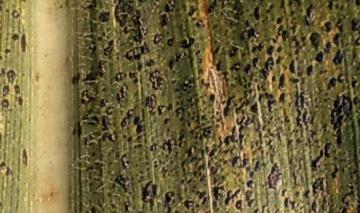tarspot: (330, 93, 353, 146), (266, 164, 284, 190), (122, 45, 149, 61), (309, 148, 324, 172), (180, 144, 197, 165), (224, 187, 241, 208), (262, 92, 278, 114), (114, 173, 131, 193), (163, 189, 176, 213), (311, 176, 325, 198), (259, 56, 275, 75), (139, 179, 151, 204), (113, 4, 125, 28), (230, 1, 244, 21), (239, 27, 259, 41), (132, 25, 146, 44), (309, 31, 322, 51), (159, 138, 173, 156), (102, 38, 115, 57), (294, 107, 303, 134), (148, 183, 158, 207), (178, 36, 195, 49), (332, 49, 344, 67), (340, 189, 355, 203), (118, 152, 129, 170), (97, 10, 111, 24), (152, 68, 166, 82), (149, 92, 157, 116), (223, 134, 239, 146), (300, 107, 308, 131), (329, 163, 340, 180), (181, 79, 195, 92), (211, 185, 224, 199), (226, 45, 239, 59), (100, 114, 110, 132), (158, 12, 170, 27), (280, 106, 290, 123), (251, 5, 261, 22), (305, 2, 315, 19), (20, 32, 28, 53), (131, 12, 143, 26), (186, 48, 194, 69), (182, 198, 194, 212), (323, 139, 331, 160), (292, 84, 299, 107), (6, 68, 16, 84), (350, 17, 360, 33), (151, 33, 164, 45), (201, 125, 213, 138), (321, 20, 333, 33), (113, 71, 127, 82), (210, 199, 221, 213), (249, 38, 258, 55), (75, 120, 83, 139), (83, 71, 98, 81), (238, 114, 245, 135), (80, 108, 92, 120), (298, 91, 306, 109), (331, 31, 340, 47), (334, 17, 343, 33), (173, 50, 184, 63), (290, 35, 301, 48), (21, 147, 28, 167), (326, 76, 336, 90), (166, 56, 175, 71), (287, 59, 296, 74), (108, 130, 118, 143), (122, 200, 132, 213), (135, 122, 145, 135), (156, 104, 166, 117), (230, 155, 240, 168), (228, 62, 241, 72), (291, 171, 299, 187), (141, 95, 150, 109), (278, 72, 285, 90), (10, 8, 21, 19), (96, 59, 107, 70), (206, 147, 217, 158), (4, 165, 14, 177), (148, 141, 158, 153), (138, 108, 146, 123), (187, 5, 197, 17), (250, 101, 258, 116), (310, 198, 318, 213), (314, 51, 324, 63), (238, 134, 245, 151), (303, 171, 310, 188), (1, 84, 10, 97), (143, 58, 156, 67), (159, 165, 168, 178), (214, 59, 223, 72), (234, 198, 243, 211), (280, 29, 289, 42), (296, 155, 303, 171), (308, 111, 315, 127), (324, 40, 332, 54), (85, 94, 95, 105), (119, 12, 129, 23), (125, 107, 136, 117), (174, 106, 184, 117), (226, 94, 236, 105), (274, 15, 285, 25), (288, 23, 298, 34), (119, 117, 128, 129), (127, 70, 139, 79), (229, 123, 238, 135), (222, 105, 231, 117), (251, 56, 260, 68), (265, 138, 274, 150), (302, 15, 311, 27), (216, 134, 223, 149), (197, 147, 205, 160), (352, 94, 360, 107), (266, 43, 274, 56), (87, 45, 98, 54), (150, 80, 159, 91), (166, 36, 175, 47), (196, 190, 207, 199), (196, 162, 207, 171), (246, 198, 255, 209), (244, 188, 253, 199), (13, 82, 21, 94), (16, 94, 24, 106), (145, 69, 153, 81), (221, 71, 229, 83), (278, 92, 286, 104), (275, 131, 283, 143), (320, 197, 326, 213), (257, 40, 265, 52), (265, 3, 273, 15), (114, 91, 121, 104), (287, 76, 300, 83), (83, 80, 98, 86), (98, 98, 107, 108), (126, 3, 136, 12), (135, 61, 144, 71), (165, 102, 174, 112), (162, 116, 172, 125), (212, 44, 221, 54), (243, 63, 252, 73), (33, 72, 41, 83), (208, 92, 216, 103), (193, 114, 201, 125), (253, 160, 261, 171), (288, 199, 296, 210), (84, 33, 96, 40), (257, 131, 263, 145), (268, 152, 275, 164), (354, 34, 360, 48), (80, 88, 89, 97), (200, 196, 209, 205), (270, 34, 279, 43), (275, 24, 284, 33), (122, 25, 130, 35), (132, 115, 140, 125), (222, 28, 230, 38), (188, 155, 198, 163), (246, 178, 254, 188), (345, 182, 355, 190), (306, 65, 314, 75), (337, 73, 345, 83), (283, 196, 289, 209), (163, 2, 170, 13), (211, 165, 218, 176), (275, 55, 282, 66), (309, 129, 316, 140), (97, 136, 102, 151), (10, 33, 19, 41), (1, 98, 9, 107), (105, 106, 113, 115), (185, 95, 194, 103), (211, 176, 219, 185), (244, 115, 250, 127), (250, 113, 256, 125), (237, 74, 243, 86), (274, 125, 283, 133), (286, 138, 294, 147), (298, 32, 306, 41), (243, 18, 250, 28), (176, 191, 183, 201), (303, 188, 310, 198), (351, 79, 358, 89), (318, 69, 328, 76), (326, 1, 333, 11), (85, 120, 96, 126), (101, 132, 107, 143), (241, 157, 247, 168), (243, 88, 249, 99), (273, 202, 279, 213), (298, 173, 304, 184), (194, 95, 199, 108), (265, 200, 270, 213), (97, 70, 105, 78), (132, 77, 140, 85), (194, 48, 202, 56), (240, 74, 248, 82), (275, 45, 283, 53), (278, 1, 286, 9), (289, 16, 297, 24), (3, 47, 12, 54), (89, 114, 98, 121), (196, 56, 203, 65), (209, 1, 218, 8), (176, 134, 185, 141), (176, 141, 185, 148), (198, 174, 207, 181), (239, 100, 246, 109), (295, 137, 304, 144), (289, 8, 296, 17), (70, 74, 76, 84), (82, 136, 88, 146), (92, 177, 102, 183), (199, 77, 205, 87), (257, 92, 263, 102), (280, 188, 286, 198), (349, 167, 359, 173), (91, 1, 99, 8), (89, 205, 96, 213), (109, 201, 116, 209), (118, 85, 125, 93), (126, 136, 134, 143), (196, 67, 204, 74), (165, 126, 172, 134), (194, 21, 201, 29), (199, 113, 206, 121), (177, 128, 185, 135), (185, 177, 192, 185), (237, 177, 244, 185), (340, 205, 347, 213), (297, 58, 305, 65), (86, 171, 92, 180), (170, 196, 176, 205), (212, 32, 221, 38), (172, 138, 178, 147), (270, 74, 276, 83), (255, 123, 261, 132), (261, 115, 267, 124), (344, 1, 350, 10), (84, 4, 94, 9), (76, 71, 81, 81), (203, 142, 208, 152), (221, 46, 226, 56), (260, 203, 265, 213), (96, 34, 103, 41), (173, 86, 180, 93), (211, 23, 218, 30), (205, 7, 212, 14), (214, 123, 221, 130), (188, 128, 195, 135), (205, 128, 212, 135), (248, 170, 255, 177), (257, 73, 264, 80), (287, 1, 294, 8), (312, 138, 319, 145), (353, 1, 360, 8), (99, 185, 106, 192), (80, 97, 86, 105), (90, 150, 96, 158), (114, 151, 120, 159), (135, 134, 143, 140), (212, 38, 220, 44), (220, 1, 226, 9), (228, 19, 234, 27), (202, 105, 208, 113), (193, 131, 199, 139), (191, 169, 197, 177), (220, 174, 226, 182), (218, 166, 226, 172), (233, 106, 239, 114), (259, 182, 267, 188), (294, 189, 300, 197), (340, 166, 346, 174), (339, 157, 347, 163), (240, 51, 246, 59), (333, 1, 339, 9), (316, 86, 322, 94), (308, 56, 314, 64), (98, 166, 103, 175), (174, 149, 179, 158), (234, 116, 239, 125), (255, 83, 260, 92), (260, 150, 265, 159), (88, 26, 94, 33), (97, 201, 104, 207), (106, 191, 112, 198), (120, 133, 127, 139), (136, 143, 143, 149), (124, 159, 131, 165), (143, 160, 150, 166), (170, 78, 176, 85), (174, 170, 180, 177), (186, 121, 192, 128), (209, 113, 215, 120), (214, 109, 220, 116), (219, 99, 226, 105), (205, 81, 211, 88), (223, 38, 230, 44), (229, 82, 236, 88), (239, 108, 246, 114), (228, 147, 234, 154), (268, 115, 275, 121), (262, 134, 269, 140), (253, 207, 260, 213), (331, 155, 338, 161), (293, 48, 299, 55), (296, 1, 302, 8), (296, 71, 303, 77), (320, 123, 327, 129), (151, 116, 157, 123), (330, 147, 337, 153), (1, 67, 6, 75), (1, 160, 6, 168), (49, 190, 54, 198), (72, 126, 76, 136), (89, 40, 97, 45), (105, 161, 113, 166), (146, 171, 151, 179), (178, 22, 183, 30), (197, 18, 205, 23), (214, 117, 222, 122), (183, 185, 188, 193), (206, 160, 211, 168), (254, 140, 259, 148), (261, 124, 266, 132), (288, 157, 293, 165), (356, 145, 360, 155), (270, 15, 275, 23), (131, 203, 136, 211), (4, 7, 10, 13), (88, 64, 94, 70), (100, 86, 106, 92), (88, 135, 94, 141), (88, 141, 94, 147), (110, 181, 116, 187), (143, 153, 149, 159), (164, 30, 170, 36), (168, 158, 174, 164), (219, 11, 225, 17), (230, 28, 236, 34), (198, 93, 204, 99), (178, 116, 184, 122), (185, 111, 191, 117), (194, 124, 200, 130), (180, 166, 186, 172), (179, 178, 185, 184), (201, 181, 207, 187), (241, 152, 247, 158), (246, 82, 252, 88), (265, 127, 271, 133), (251, 149, 257, 155), (92, 189, 98, 195), (82, 11, 88, 17), (20, 70, 25, 77), (132, 144, 137, 151), (223, 18, 228, 25), (210, 108, 215, 115), (223, 147, 228, 154), (249, 143, 254, 150), (287, 101, 292, 108), (276, 115, 281, 122), (299, 204, 306, 209), (349, 173, 354, 180), (339, 38, 344, 45), (130, 194, 135, 201), (229, 168, 234, 175), (340, 4, 344, 12), (1, 200, 4, 210), (58, 4, 64, 9), (88, 20, 94, 25), (100, 31, 106, 36), (107, 54, 112, 60), (86, 165, 92, 170), (93, 165, 98, 171), (134, 162, 139, 168), (152, 164, 158, 169), (152, 159, 158, 164), (169, 167, 174, 173), (170, 172, 175, 178), (190, 16, 196, 21), (201, 22, 206, 28), (208, 64, 214, 69), (226, 1, 232, 6), (189, 102, 194, 108), (191, 110, 196, 116), (201, 99, 206, 105), (193, 139, 198, 145), (219, 185, 224, 191), (235, 172, 240, 178), (246, 99, 251, 105), (242, 83, 247, 89), (253, 78, 258, 84), (251, 93, 256, 99), (269, 132, 274, 138), (305, 200, 311, 205), (303, 141, 308, 147), (337, 204, 342, 210), (344, 199, 349, 205), (301, 41, 306, 47), (322, 97, 328, 102), (354, 66, 360, 71), (293, 144, 298, 150), (225, 124, 229, 131), (190, 206, 194, 213), (287, 125, 291, 132), (296, 201, 300, 208), (42, 54, 49, 58), (136, 209, 143, 213), (346, 152, 353, 156), (8, 108, 13, 113), (115, 56, 120, 61), (138, 170, 143, 175), (157, 159, 162, 164), (176, 94, 181, 99), (189, 115, 194, 120), (203, 116, 208, 121), (194, 203, 199, 208), (190, 188, 195, 193), (195, 189, 200, 194), (197, 170, 202, 175), (217, 148, 222, 153), (222, 159, 227, 164), (261, 87, 266, 92), (316, 165, 321, 170), (354, 109, 359, 114), (299, 7, 304, 12), (313, 97, 318, 102), (98, 156, 102, 162), (83, 209, 89, 213), (107, 198, 113, 202), (109, 148, 115, 152), (137, 156, 141, 162), (151, 1, 157, 5), (175, 100, 179, 106), (184, 118, 190, 122), (204, 209, 210, 213), (230, 36, 236, 40), (214, 159, 218, 165), (218, 157, 224, 161), (233, 75, 237, 81), (265, 151, 269, 157), (301, 198, 305, 204), (260, 19, 266, 23), (323, 128, 327, 134), (313, 104, 319, 108), (288, 146, 292, 152), (347, 148, 353, 152), (1, 131, 3, 142), (111, 1, 118, 4), (127, 1, 134, 4), (12, 118, 16, 123), (115, 51, 119, 56), (94, 161, 99, 165), (98, 152, 103, 156), (87, 175, 92, 179), (129, 176, 133, 181), (137, 178, 141, 183), (134, 173, 139, 177), (145, 167, 150, 171), (204, 204, 209, 208), (237, 97, 242, 101), (260, 83, 264, 88), (233, 42, 238, 46), (323, 90, 327, 95), (345, 42, 349, 47), (228, 157, 231, 163), (258, 1, 264, 4), (1, 5, 3, 13), (6, 119, 10, 123), (224, 83, 228, 87), (357, 158, 360, 163), (20, 1, 27, 3), (1, 54, 3, 61), (250, 1, 255, 3), (1, 1, 4, 4), (1, 72, 2, 79)
